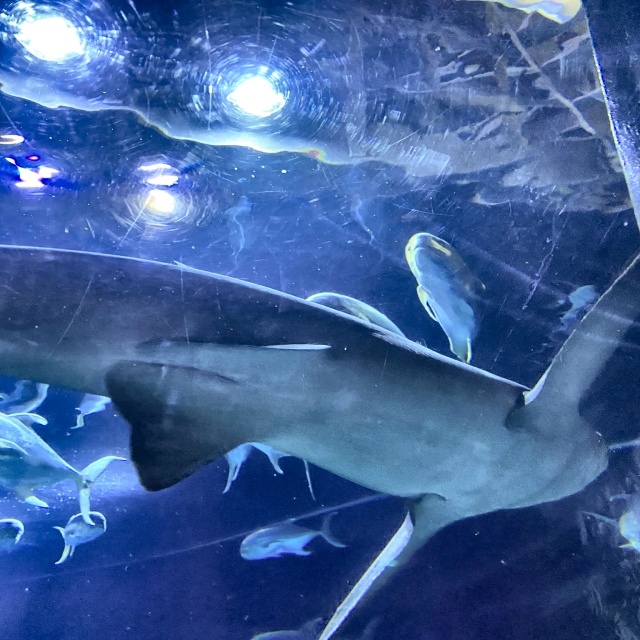fish: (0, 412, 128, 528), (405, 231, 486, 362), (239, 509, 347, 558), (53, 511, 107, 565), (0, 518, 25, 555)
shark: (0, 244, 639, 639)
